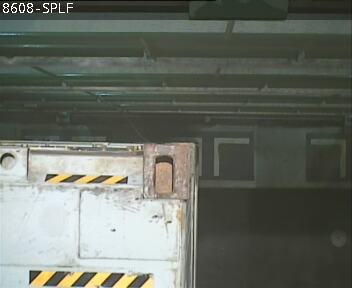groundmarker_1: (165, 135, 250, 176)
